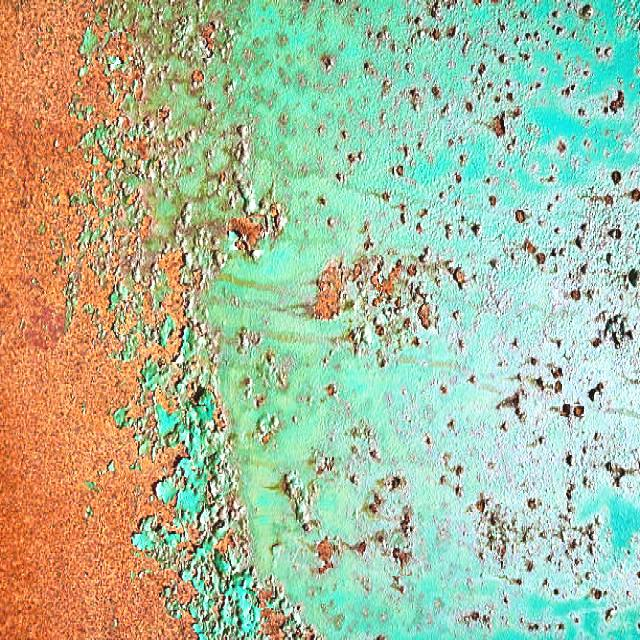Corrosion: (76, 78, 316, 640), (0, 0, 193, 640)
